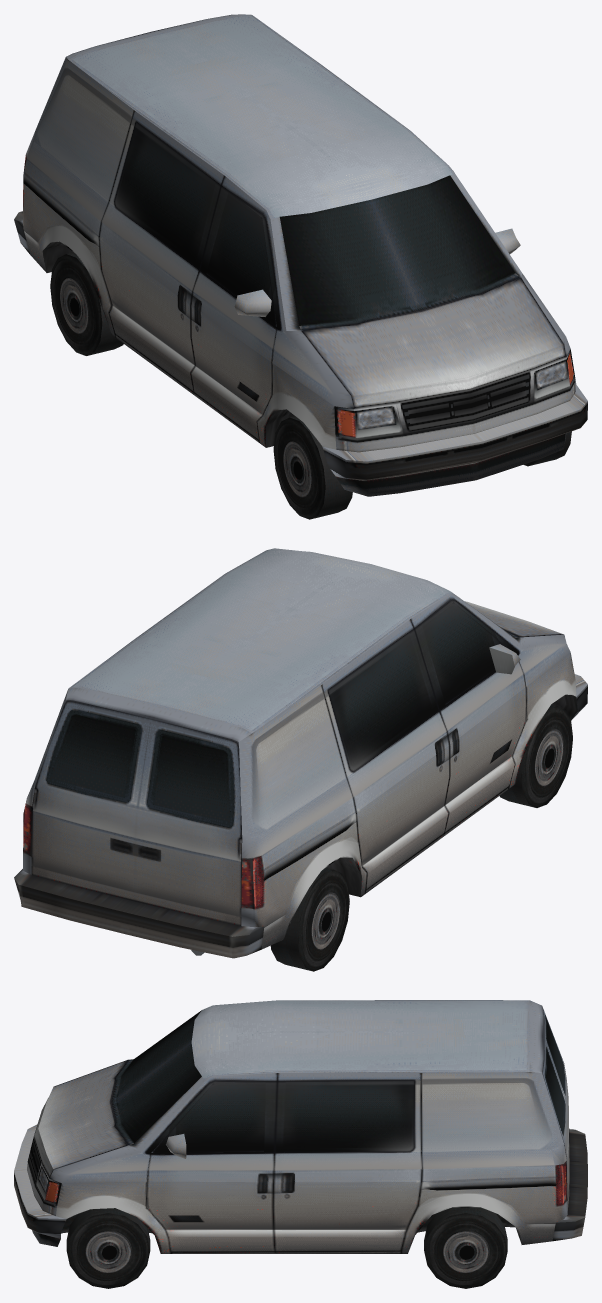
Rendered from Noah_New.fbx.
The picture shows the model from 3 angles, top to bottom: view 1: azimuth 30°, elevation 25°; view 2: azimuth 150°, elevation 25°; view 3: azimuth 270°, elevation 25°; orthographic projection. The views are drawn at different scales.
Visible parts, largest first — view 1: Noah, WFR, WBR; view 2: Noah, WBR, WFR; view 3: Noah, WBL, WFL.
Part boxes in pixels (box(x1,y1,x2,y2)): Noah: box(14, 14, 587, 496); WFR: box(273, 416, 352, 519); WBR: box(50, 252, 123, 355); Noah: box(14, 548, 587, 958); WBR: box(270, 867, 349, 971); WFR: box(499, 704, 572, 807); Noah: box(14, 1000, 587, 1253); WBL: box(424, 1207, 507, 1288); WFL: box(66, 1208, 150, 1288).
Bounding box in the file's own units: 2.11 × 1.88 × 4.67.
1 material, 1 textured.
